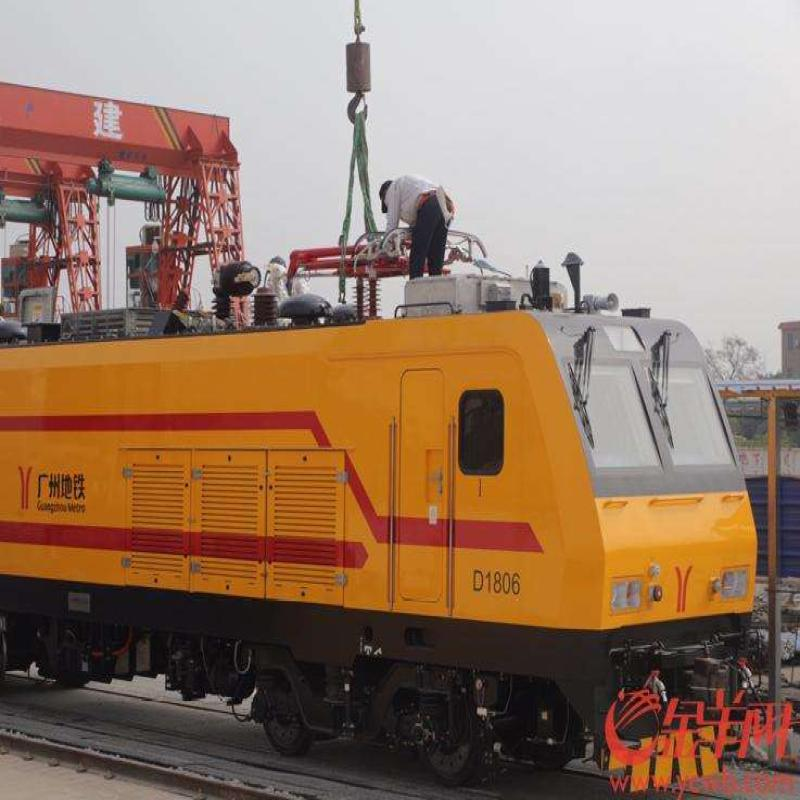train: (25, 300, 746, 761)
